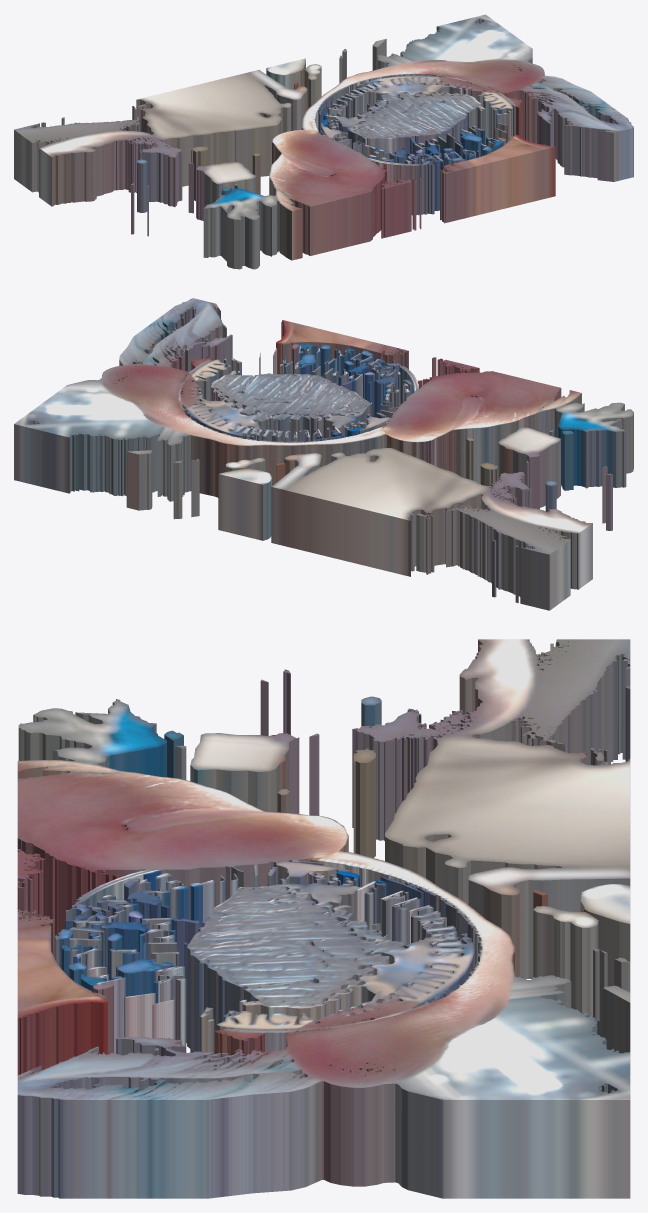
The model's file is Builder20220304031100.gltf.
The picture shows the model from 3 angles, top to bottom: view 1: azimuth 30°, elevation 25°; view 2: azimuth 150°, elevation 25°; view 3: azimuth 270°, elevation 25°; orthographic projection. The views are drawn at different scales.
Bounding box in the file's own units: 0.2448 × 0.0245 × 0.1376.
1 material, 1 textured.
